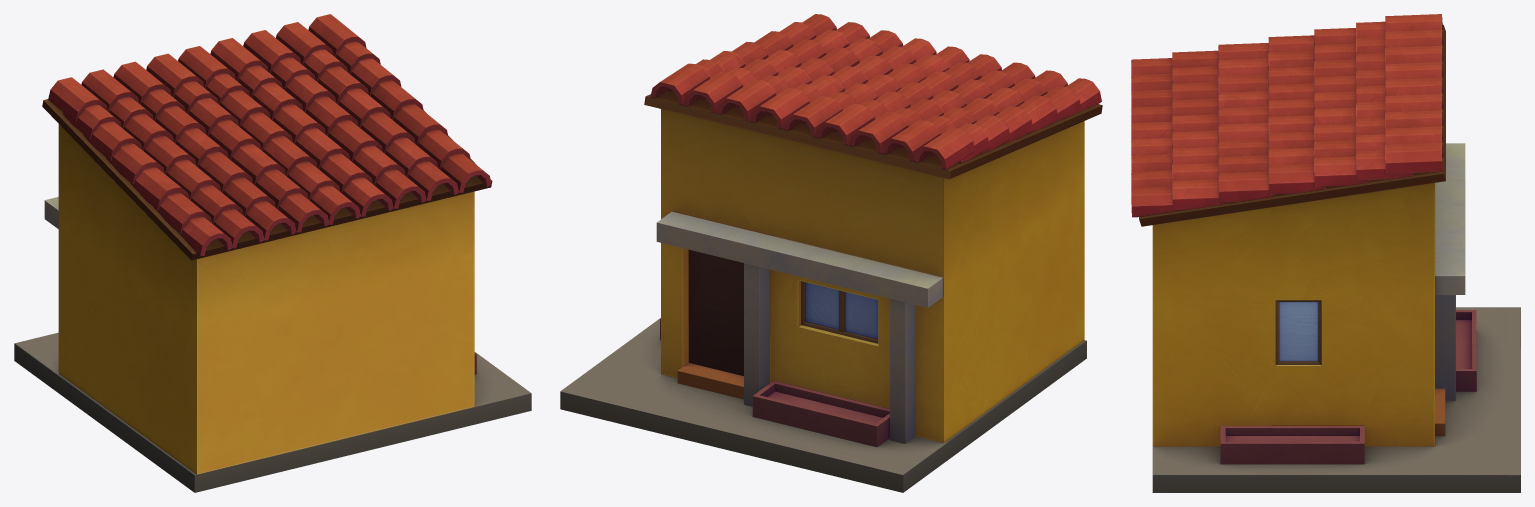
File: casa-teja.glb
3 views of the same model, side by side, from view 1: azimuth 30°, elevation 25°; view 2: azimuth 150°, elevation 25°; view 3: azimuth 270°, elevation 25° (orthographic). The views are drawn at different scales.
Visible parts, largest first — view 1: Paredes, Techo, Piso, Base techo; view 2: Paredes, Techo, Piso, Muros Entrada, Puerta, Base techo, macetas, Ventana, Escalon; view 3: Paredes, Techo, Piso, macetas, Muros Entrada, Base techo, Ventana, Escalon.
Boxes of the visible parts, <box> form: Paredes: <box>58,124,474,474</box>; Techo: <box>48,14,491,255</box>; Piso: <box>14,332,531,492</box>; Base techo: <box>42,99,492,260</box>; Paredes: <box>661,109,1084,442</box>; Techo: <box>650,14,1101,169</box>; Piso: <box>560,318,1086,492</box>; Muros Entrada: <box>656,211,942,443</box>; Puerta: <box>688,249,743,375</box>; Base techo: <box>644,91,1102,179</box>; macetas: <box>660,318,889,446</box>; Ventana: <box>801,281,878,343</box>; Escalon: <box>677,362,743,399</box>; Paredes: <box>1152,183,1434,446</box>; Techo: <box>1131,14,1442,217</box>; Piso: <box>1152,307,1520,492</box>; macetas: <box>1220,310,1476,464</box>; Muros Entrada: <box>1435,143,1465,400</box>; Base techo: <box>1139,24,1445,226</box>; Ventana: <box>1275,300,1321,364</box>; Escalon: <box>1435,388,1445,435</box>.
Bounding box in the file's own units: 5.95 × 5.06 × 5.7.
10 materials, 9 textured.
